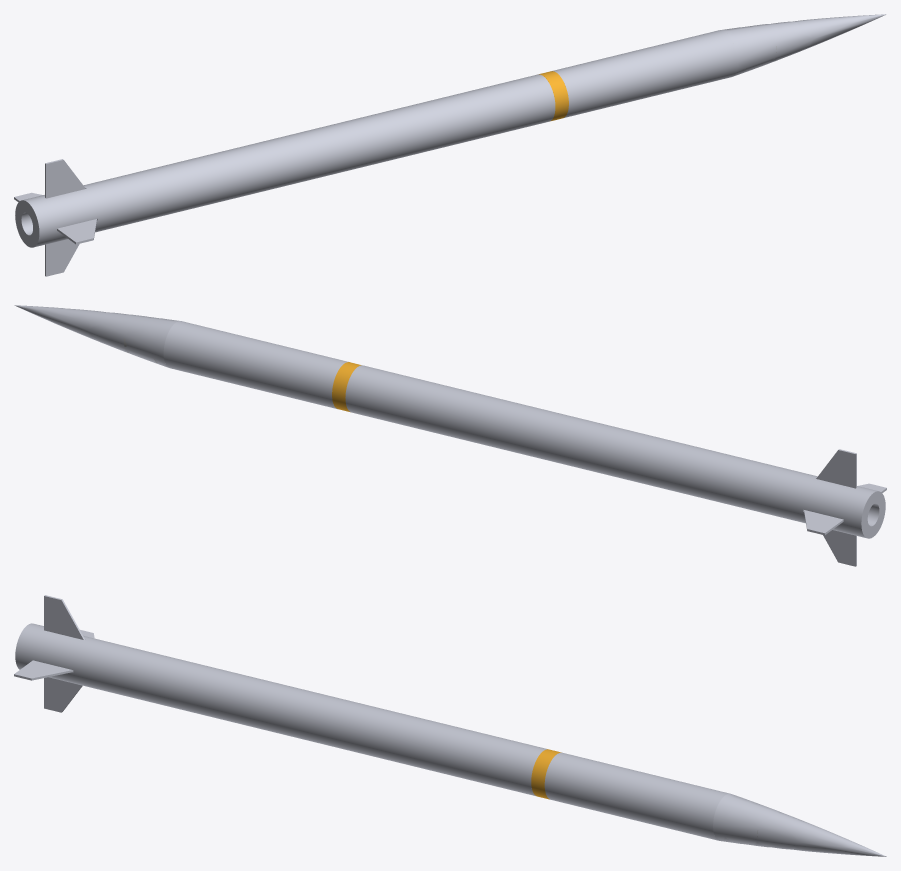
The model's file is uslirocket_step.glb.
3 views of the same model, one above another, from view 1: azimuth 30°, elevation 25°; view 2: azimuth 150°, elevation 25°; view 3: azimuth 330°, elevation 25° (orthographic).
Parts seen in each view (by area): view 1: BoosterSection, Main Compartment, Rover tube, Nose Cone, Drouge Tube, Fin (×3), Connector; view 2: BoosterSection, Main Compartment, Rover tube, Nose Cone, Drouge Tube, Fin (×3), Connector; view 3: BoosterSection, Main Compartment, Rover tube, Nose Cone, Drouge Tube, Fin (×3), Connector.
Boxes of the visible parts, <box> form: BoosterSection: <box>15,143,272,247</box>; Main Compartment: <box>337,74,555,170</box>; Rover tube: <box>551,30,737,117</box>; Nose Cone: <box>722,14,886,76</box>; Drouge Tube: <box>255,123,353,190</box>; Fin (×3): <box>45,159,96,276</box>; Connector: <box>539,71,568,121</box>; BoosterSection: <box>628,434,885,538</box>; Main Compartment: <box>345,365,563,461</box>; Rover tube: <box>163,321,348,409</box>; Nose Cone: <box>14,305,178,367</box>; Drouge Tube: <box>547,414,644,481</box>; Fin (×3): <box>804,449,856,566</box>; Connector: <box>332,362,361,412</box>; BoosterSection: <box>15,623,264,727</box>; Main Compartment: <box>329,700,547,795</box>; Rover tube: <box>544,752,729,840</box>; Nose Cone: <box>713,793,886,856</box>; Drouge Tube: <box>248,680,345,746</box>; Fin (×3): <box>14,595,84,712</box>; Connector: <box>531,749,561,799</box>.
Bounding box in the file's own units: 3.24 × 0.4056 × 0.4056.
